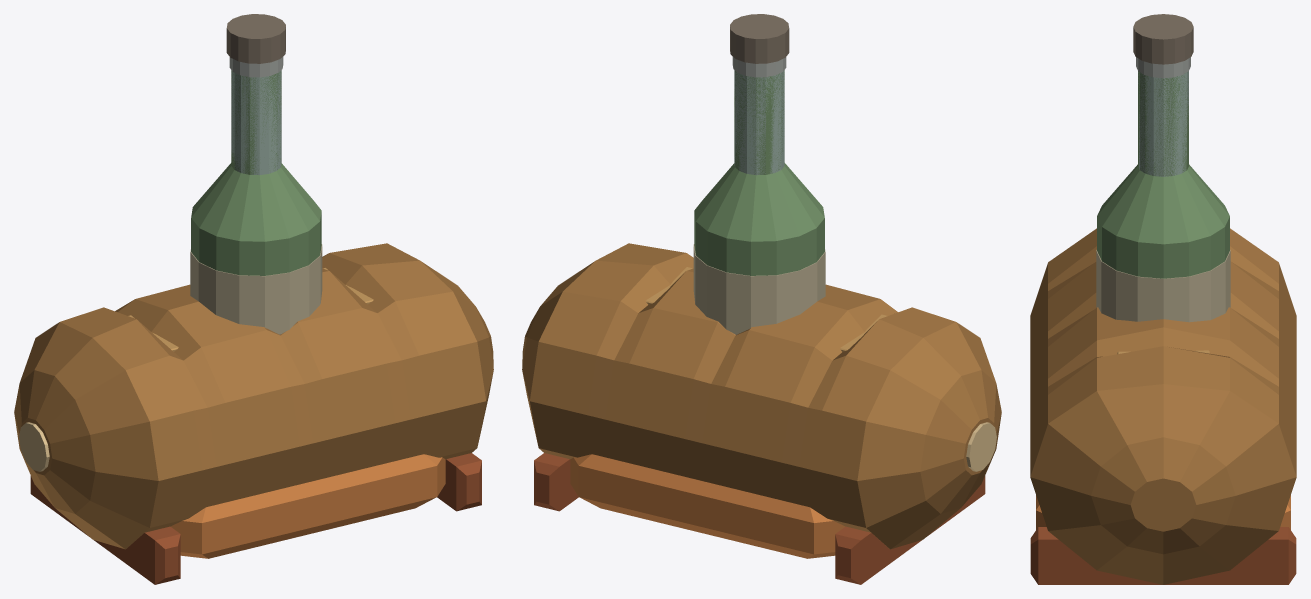
Rendered from SupermarketProducts3D.fbx.
The picture shows the model from 3 angles, left to right: view 1: azimuth 30°, elevation 25°; view 2: azimuth 150°, elevation 25°; view 3: azimuth 270°, elevation 25°; orthographic projection.
Parts seen in each view (by area): view 1: Day Old Loaf Crust, Instant Noodles Packet, Wine Bottle Glass Cell 06, Wine Bottle Faded Paper Label, Instant Noodles Crimped Seals, Wine Bottle Glass Cell 07, Vodka Bottle Glass Cell 06, Wine Bottle Screw Cap, Wine Bottle Glass Cell 05, Vodka Bottle Glass Cell 07, Day Old Loaf Cut End, Vodka Bottle Metal Cap; view 2: Day Old Loaf Crust, Instant Noodles Packet, Wine Bottle Glass Cell 05, Wine Bottle Faded Paper Label, Instant Noodles Crimped Seals, Wine Bottle Glass Cell 04, Vodka Bottle Glass Cell 05, Wine Bottle Screw Cap, Wine Bottle Glass Cell 06, Vodka Bottle Glass Cell 04, Day Old Loaf Cut End, Vodka Bottle Metal Cap; view 3: Day Old Loaf Crust, Wine Bottle Glass Cell 04, Wine Bottle Glass Cell 07, Wine Bottle Faded Paper Label, Instant Noodles Crimped Seals, Wine Bottle Screw Cap, Vodka Bottle Glass Cell 07, Vodka Bottle Glass Cell 04, Vodka Bottle Metal Cap, Instant Noodles Packet.
Part boxes in pixels (x1,y1,x2,y2): Day Old Loaf Crust: (14,243,493,549); Instant Noodles Packet: (170,454,445,558); Wine Bottle Glass Cell 06: (199,75,289,275); Wine Bottle Faded Paper Label: (190,244,322,334); Instant Noodles Crimped Seals: (30,453,481,584); Wine Bottle Glass Cell 07: (269,70,321,272); Vodka Bottle Glass Cell 06: (234,73,268,175); Wine Bottle Screw Cap: (226,14,285,63); Wine Bottle Glass Cell 05: (191,70,234,261); Vodka Bottle Glass Cell 07: (269,70,281,173); Day Old Loaf Cut End: (19,422,49,471); Vodka Bottle Metal Cap: (229,57,283,77); Day Old Loaf Crust: (522,243,1001,549); Instant Noodles Packet: (570,454,845,558); Wine Bottle Glass Cell 05: (726,73,816,275); Wine Bottle Faded Paper Label: (693,244,825,334); Instant Noodles Crimped Seals: (534,453,985,584); Wine Bottle Glass Cell 04: (694,71,746,272); Vodka Bottle Glass Cell 05: (747,73,781,175); Wine Bottle Screw Cap: (730,14,789,63); Wine Bottle Glass Cell 06: (781,70,824,261); Vodka Bottle Glass Cell 04: (734,70,746,173); Day Old Loaf Cut End: (966,422,996,471); Vodka Bottle Metal Cap: (732,57,786,77); Day Old Loaf Crust: (1030,228,1296,584); Wine Bottle Glass Cell 04: (1163,75,1229,278); Wine Bottle Glass Cell 07: (1097,71,1163,278); Wine Bottle Faded Paper Label: (1096,250,1230,322); Instant Noodles Crimped Seals: (1030,527,1296,584); Wine Bottle Screw Cap: (1133,14,1193,64); Vodka Bottle Glass Cell 07: (1138,72,1163,176); Vodka Bottle Glass Cell 04: (1163,71,1188,176); Vodka Bottle Metal Cap: (1136,57,1190,78); Instant Noodles Packet: (1036,495,1290,529).
Bounding box in the file's own units: 0.2996 × 0.305 × 0.1542.
